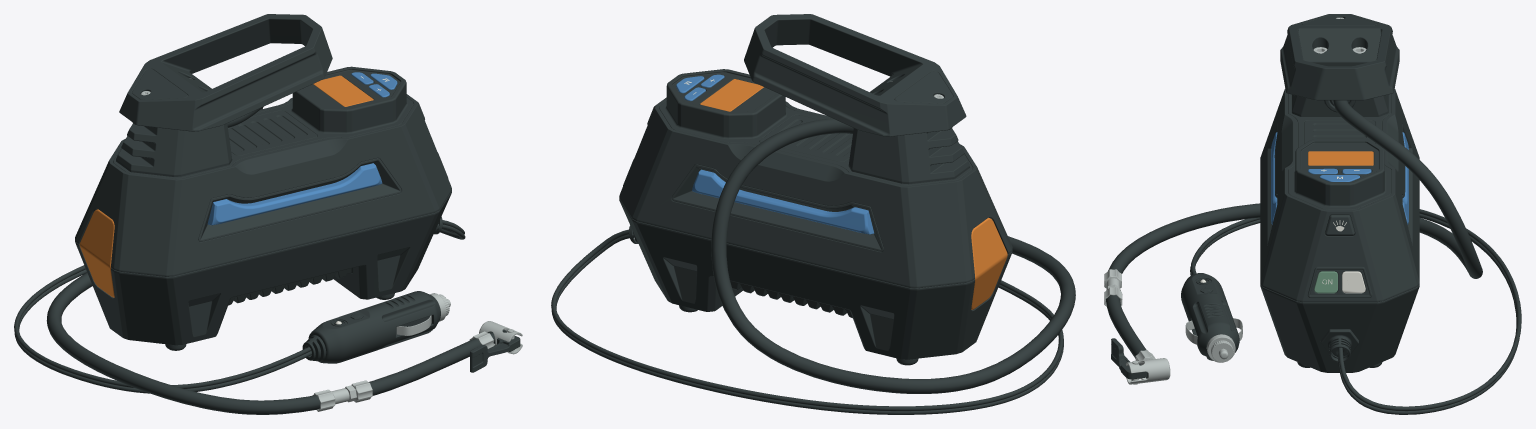
The model's file is serviceTool_inflator_a01.glb.
The picture shows the model from 3 angles, left to right: view 1: azimuth 30°, elevation 25°; view 2: azimuth 150°, elevation 25°; view 3: azimuth 270°, elevation 25°; orthographic projection. The views are drawn at different scales.
Size of the model in its own units: 0.2782 by 0.1678 by 0.234.
